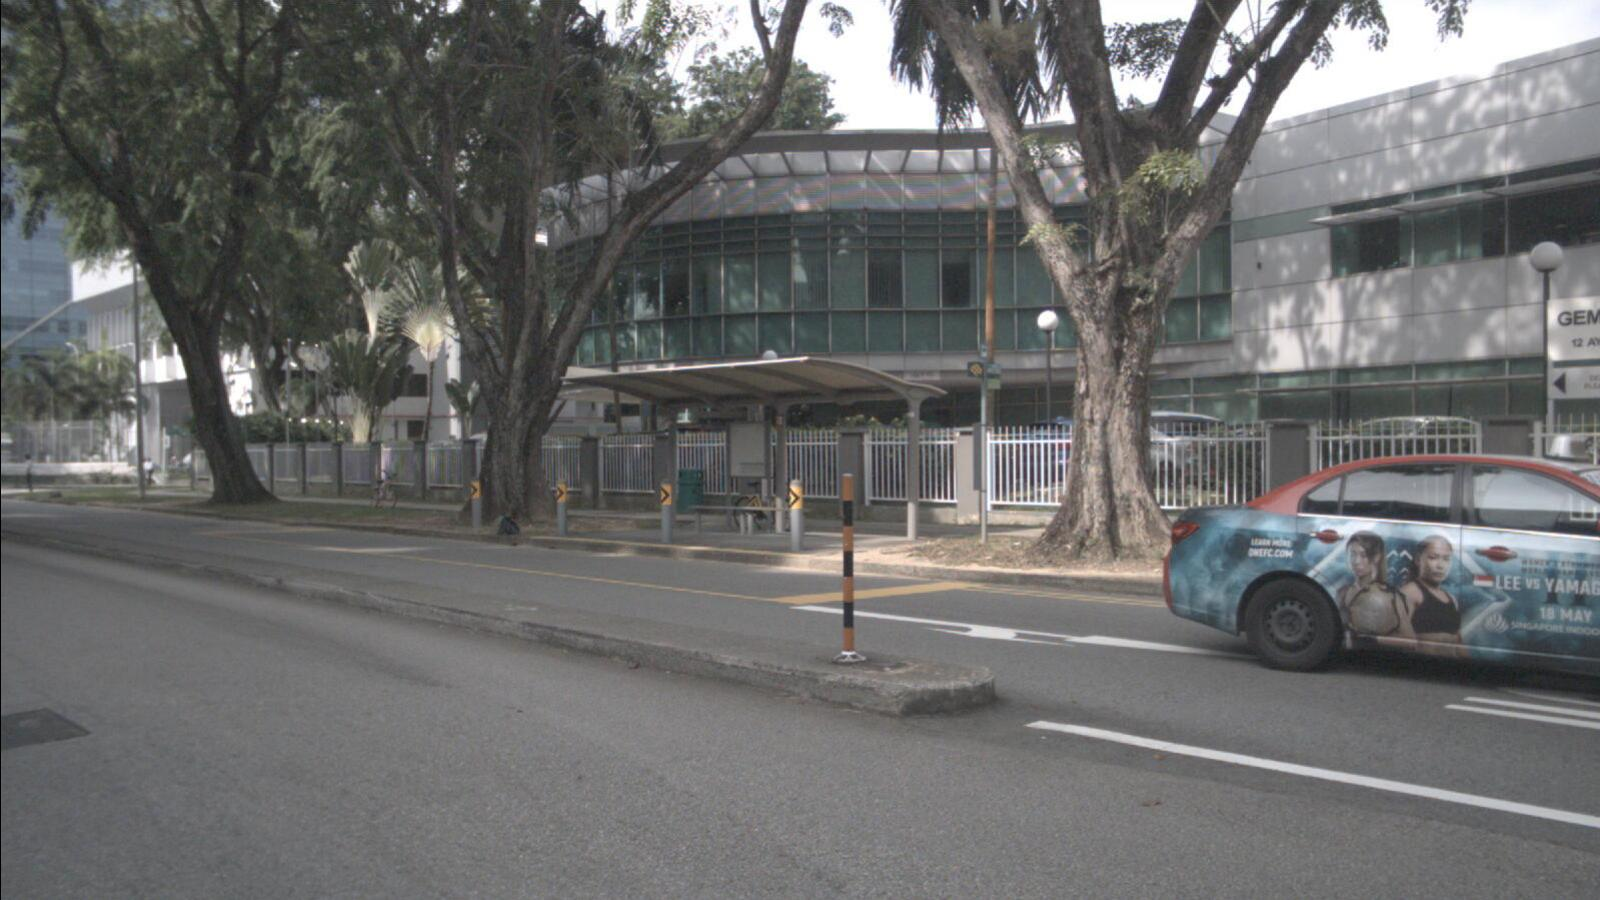human.pedestrian.adult-pedestrian.moving: (143, 458, 156, 487)
human.pedestrian.adult-pedestrian.standing: (24, 454, 35, 493)
